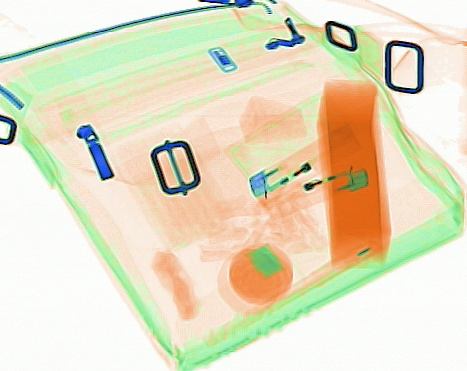lighter: (246, 122, 360, 197), (257, 164, 368, 220)
